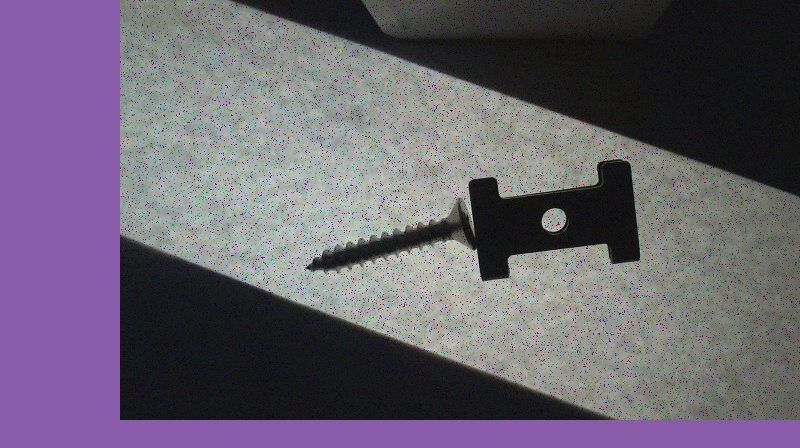O002: (467, 156, 642, 285)
S001: (301, 195, 478, 275)
